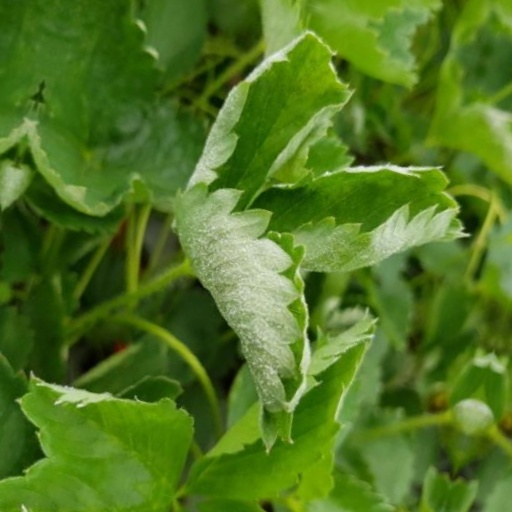Powdery Mildew Leaf: (161, 197, 351, 443), (234, 110, 456, 255), (167, 23, 301, 223), (70, 418, 253, 511)
